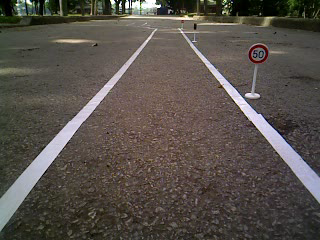limit 50: (248, 42, 270, 64)
